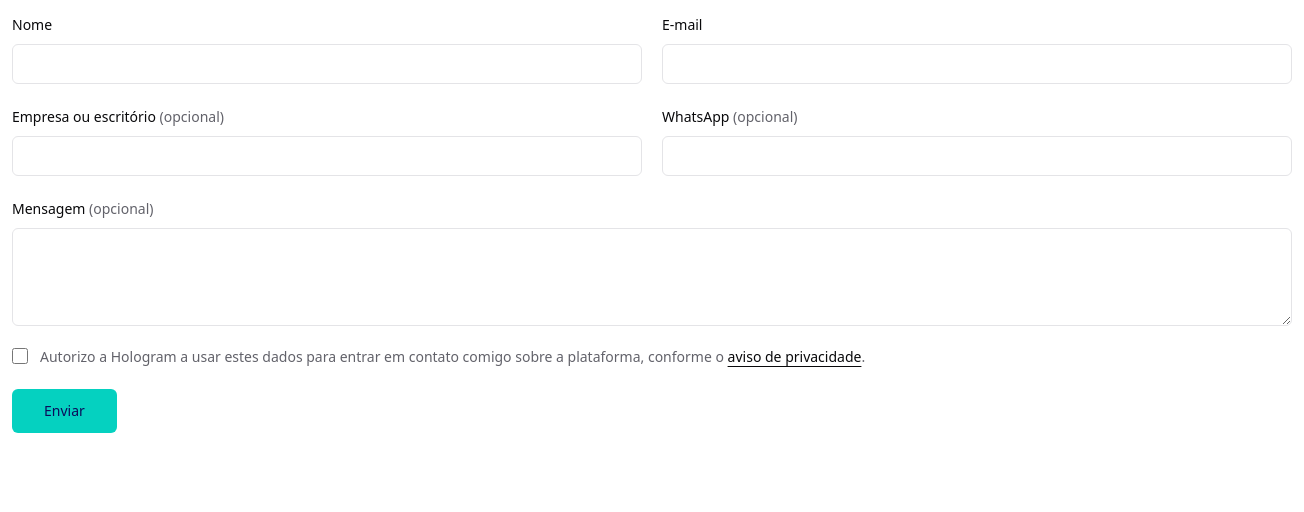
ContactForm › 429 mostra o texto de limite e reabilita o botão
Type "Maria Contadora" into the field labelled "Nome" at point(327, 64), box [12,44,642,84]
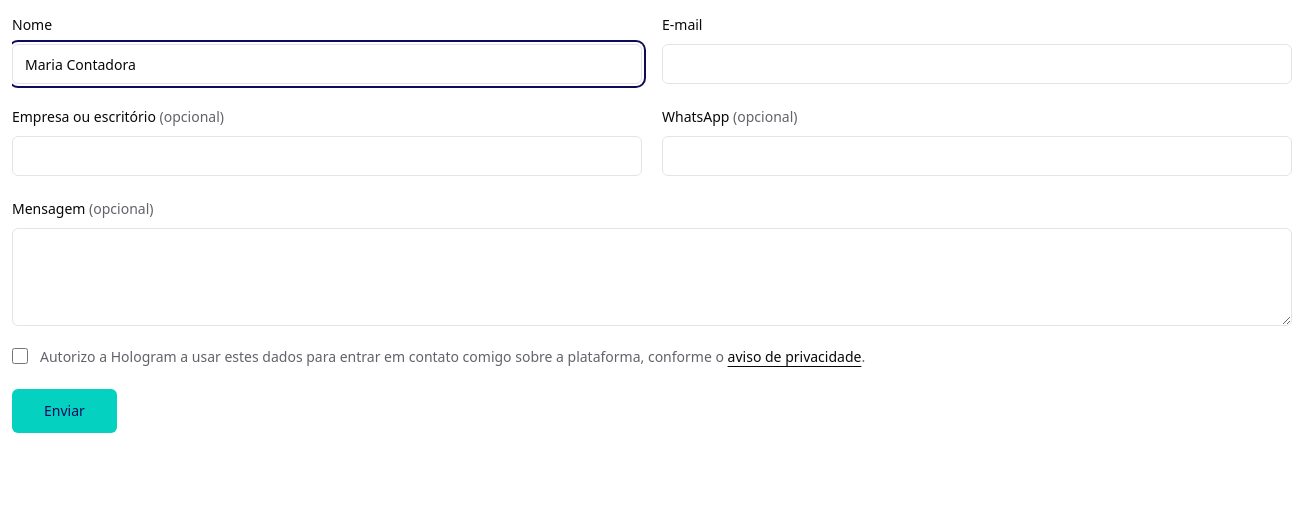
Type "maria@exemplo.com.br" into the field labelled "E-mail" at point(977, 64), box [662,44,1292,84]
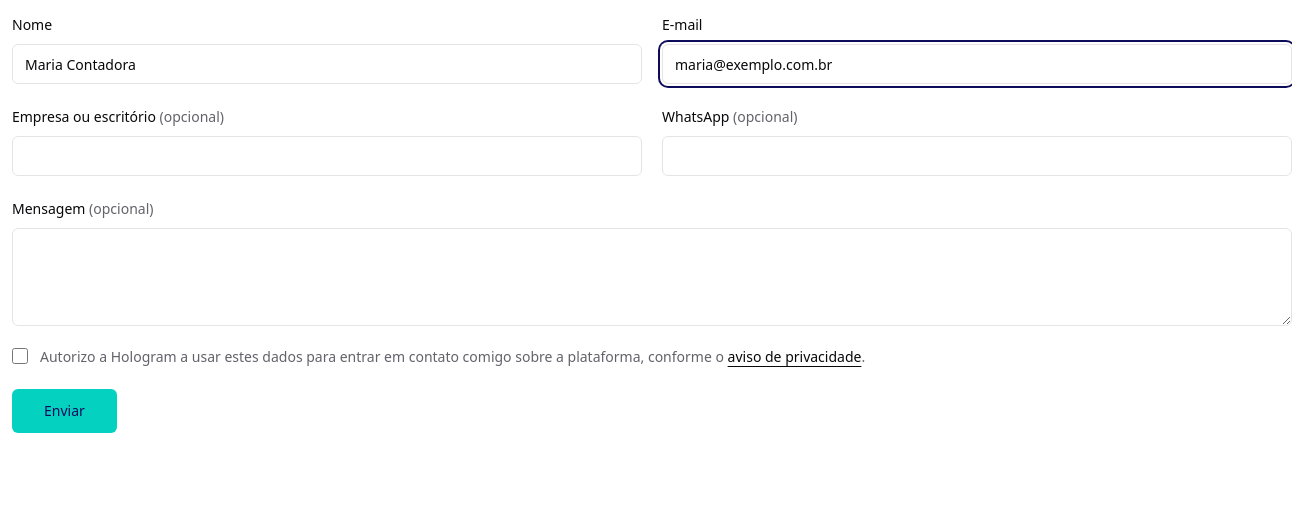
Click the checkbox at point(20, 356), box [12,348,28,364]
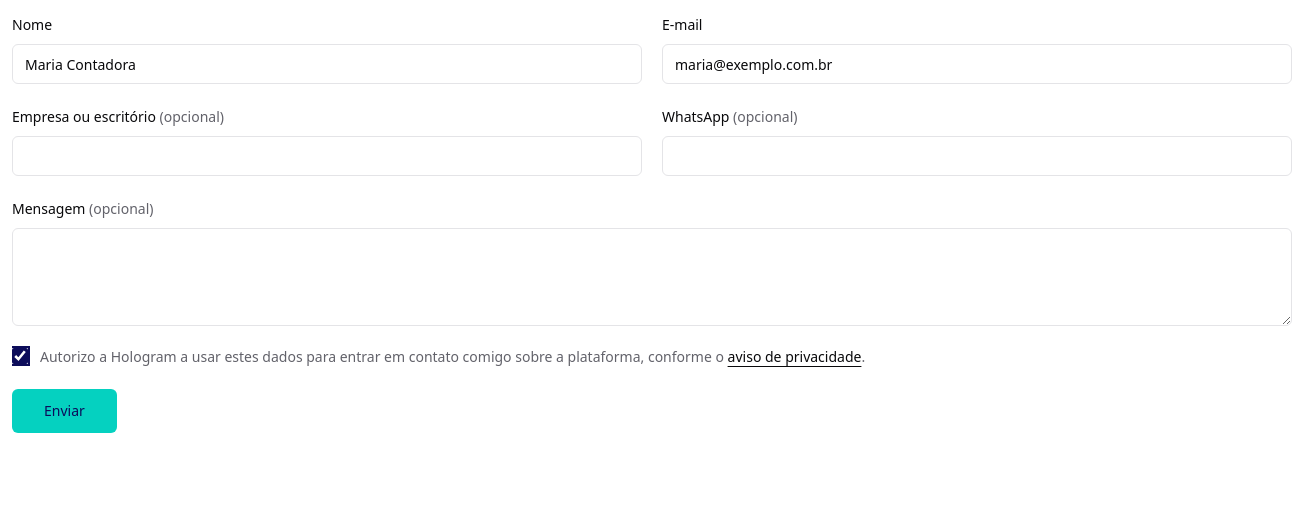
Click the button "Enviar" at point(64, 411), box [12,389,117,433]
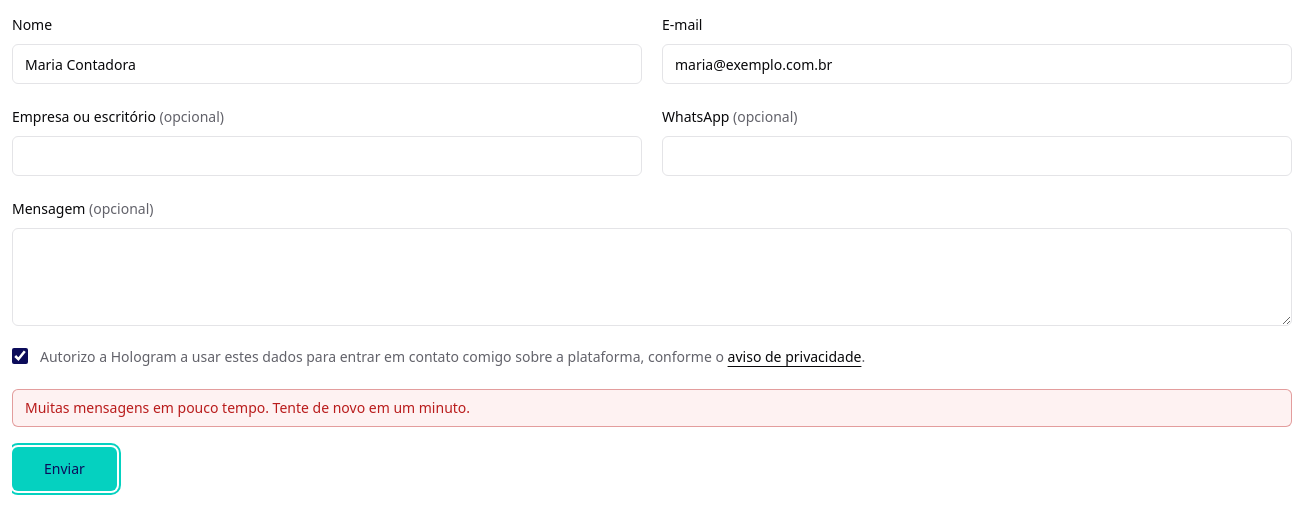
Expected: the button "Enviar" is enabled, [12,447,117,491]
Now the message reads "Muitas mensagens em pouco tempo. Tente de novo em um minuto.", box [25,398,470,417]
